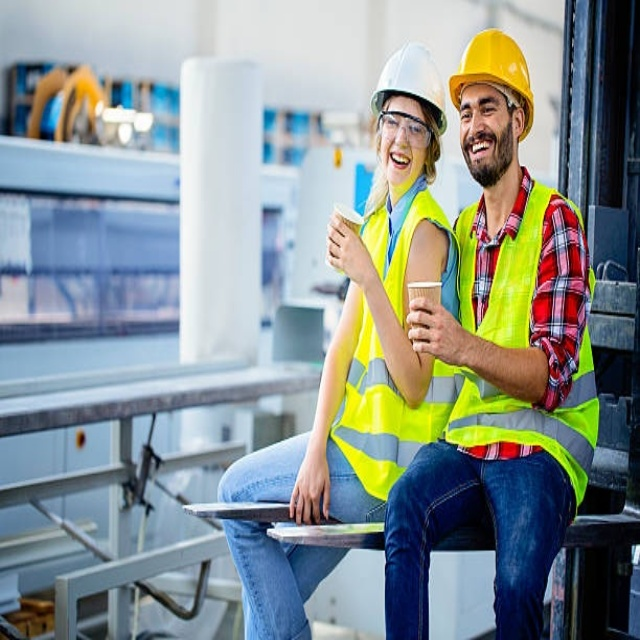Gafas: (378, 112, 436, 149)
Sin_gafas: (460, 88, 498, 121)
Sin_guantes: (404, 294, 455, 361), (290, 447, 332, 524), (326, 209, 370, 282)
Sin_mascara: (467, 135, 493, 169), (388, 149, 412, 182)
